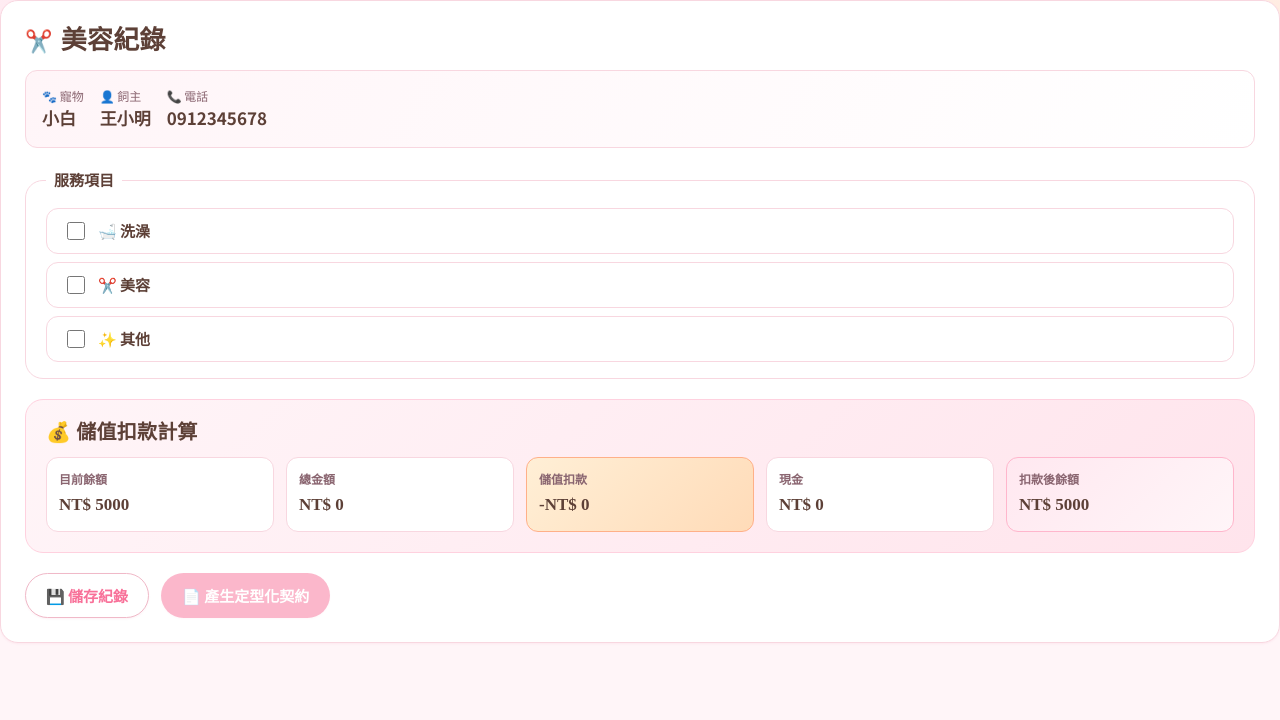
Test: GroomingRecordForm › calculate: balance=5000, cost=500 -> deduction=500, cash=0, remaining=4500
Click the checkbox with test id "service-洗澡" at (76, 231), box x1=67 y1=222 x2=85 y2=240
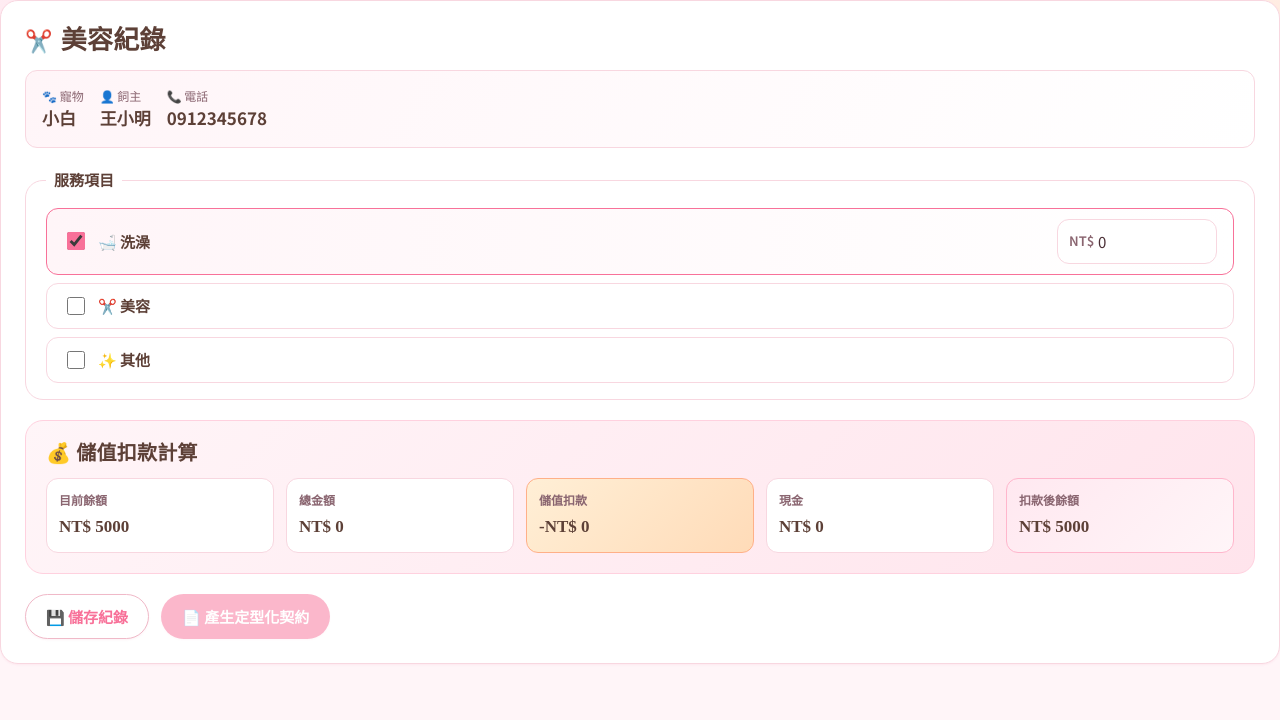
Replace the text in the number field with test id "price-洗澡" with "500" at (1137, 241), box x1=1057 y1=219 x2=1217 y2=264
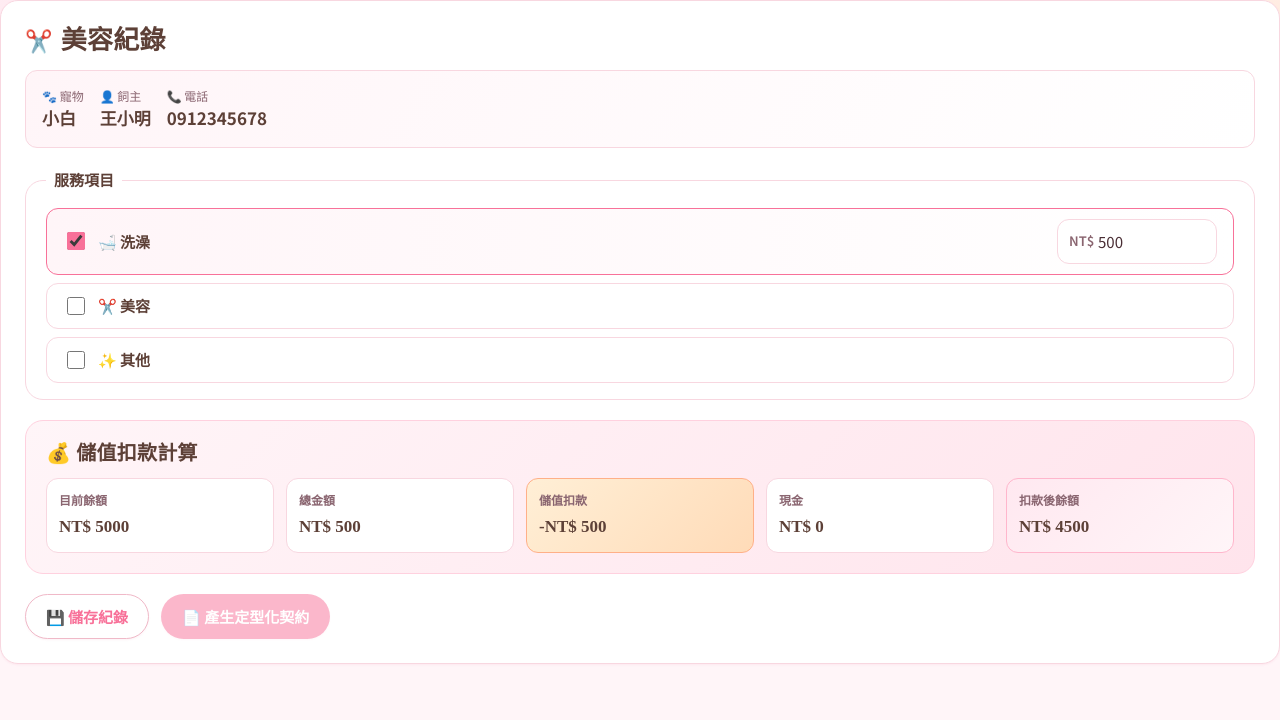
expect the text with test id "cash" shows "0": met, box x1=779 y1=516 x2=824 y2=536
expect the text with test id "deduction" shows "500": met, box x1=539 y1=516 x2=606 y2=536
expect the text with test id "remaining" shows "4500": met, box x1=1019 y1=516 x2=1089 y2=536
